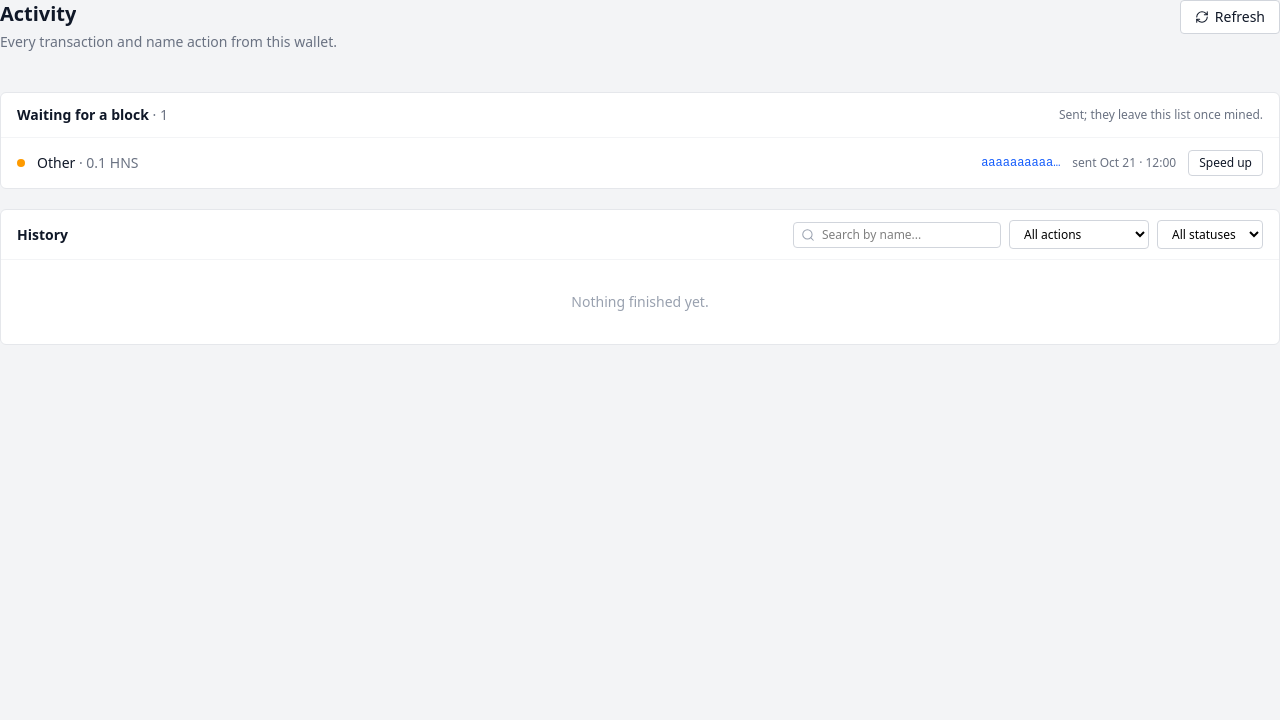
Test case: the Speed up form (R11, R16) › a refused preview reads as the backend's sentence and cannot be signed
Click the button with test id "speed-up-button" at (1226, 163), box [1188, 150, 1263, 176]
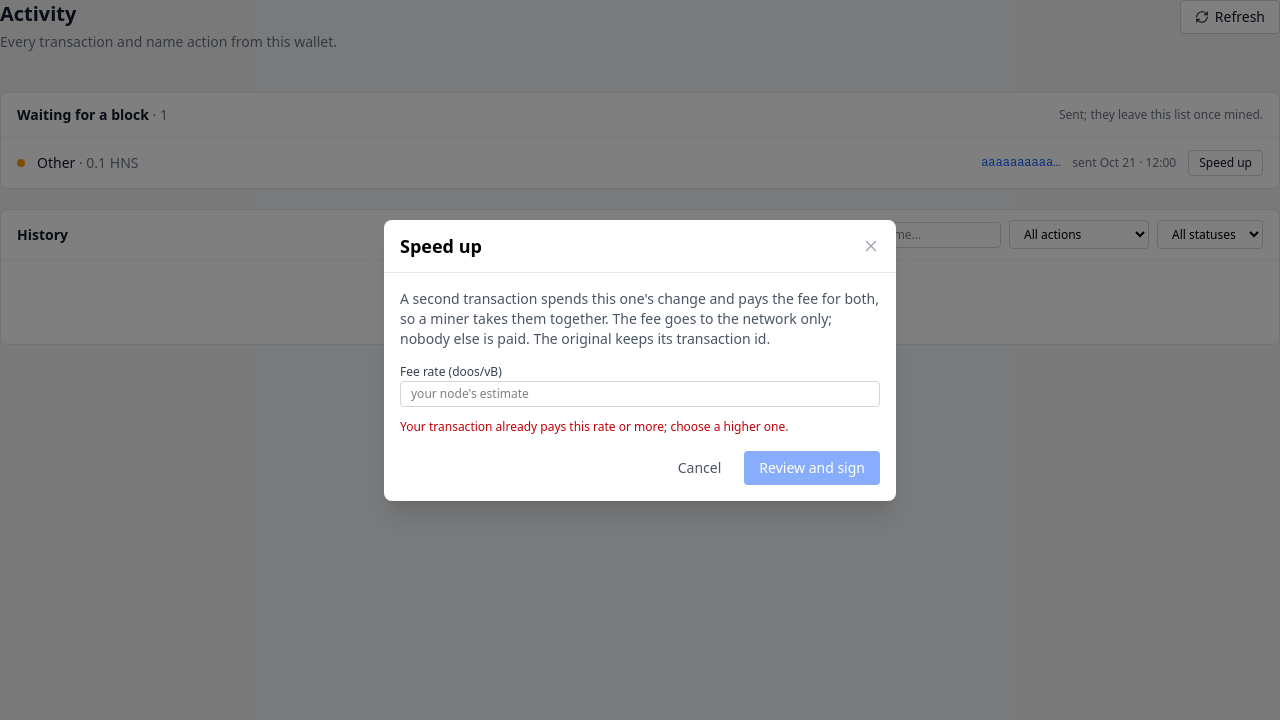
Now the text with test id "speed-up-refusal" reads "Your transaction already pays this rate or more; choose a higher one.", box [400, 418, 788, 434]
Now the button with test id "speed-up-submit" is disabled, box [744, 450, 880, 484]
